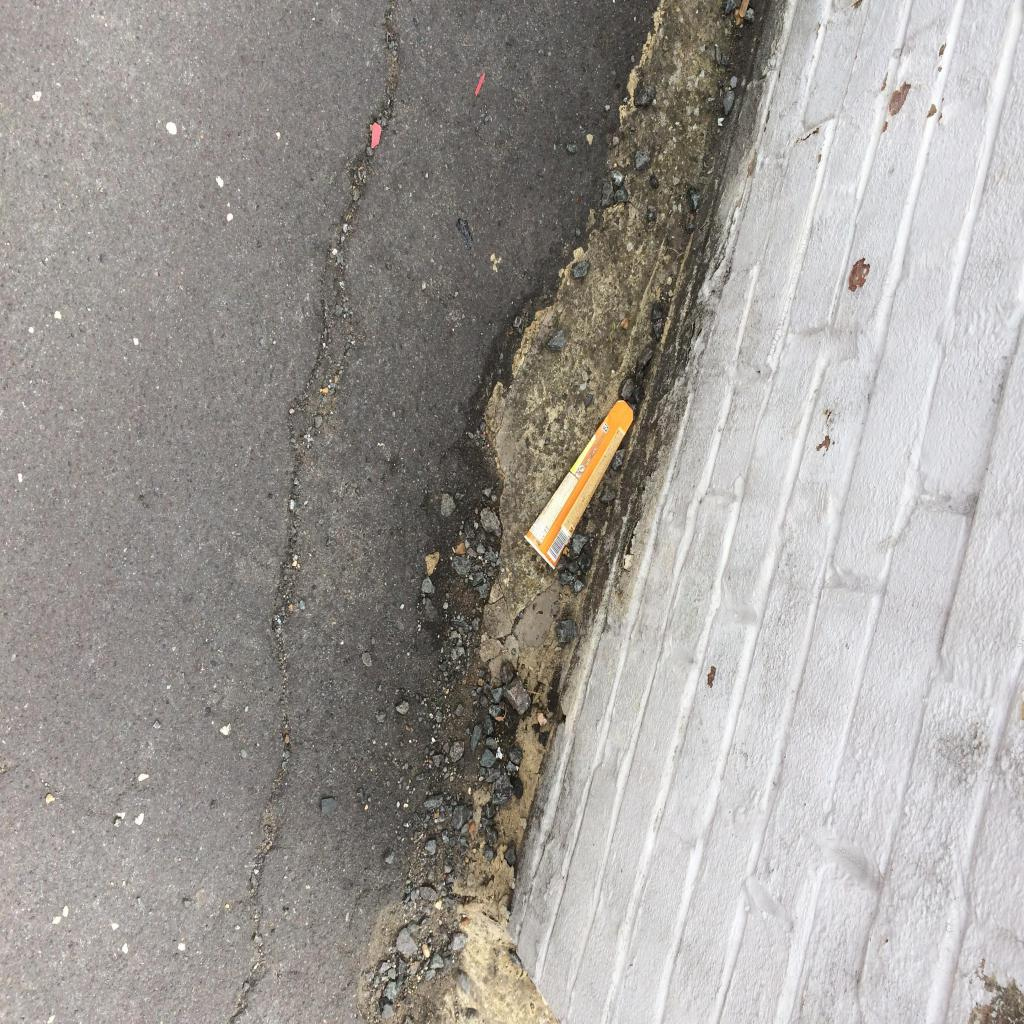Other carton: (524, 400, 634, 570)
